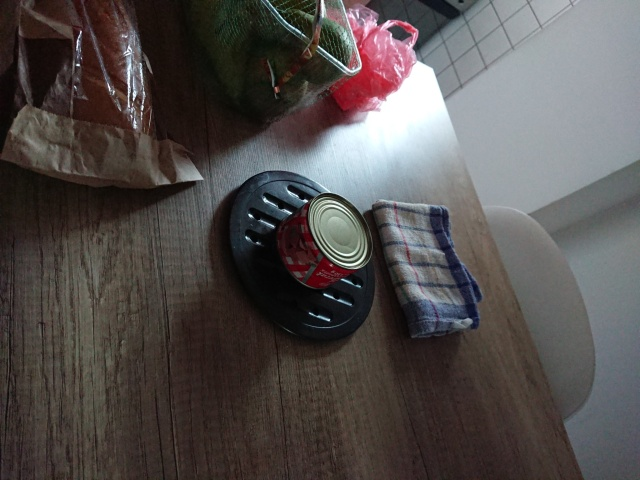Podravka Luncheon Meat 150g: (271, 190, 377, 293)
